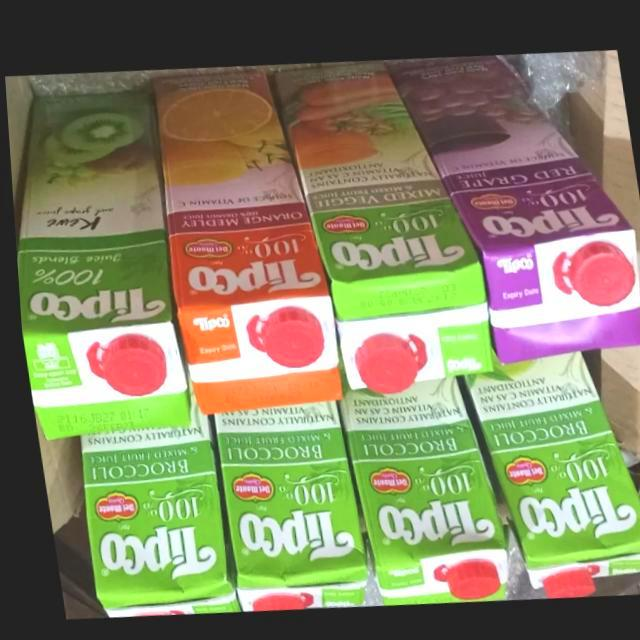cardboard: (565, 43, 640, 457), (28, 412, 75, 533), (4, 74, 31, 256)
